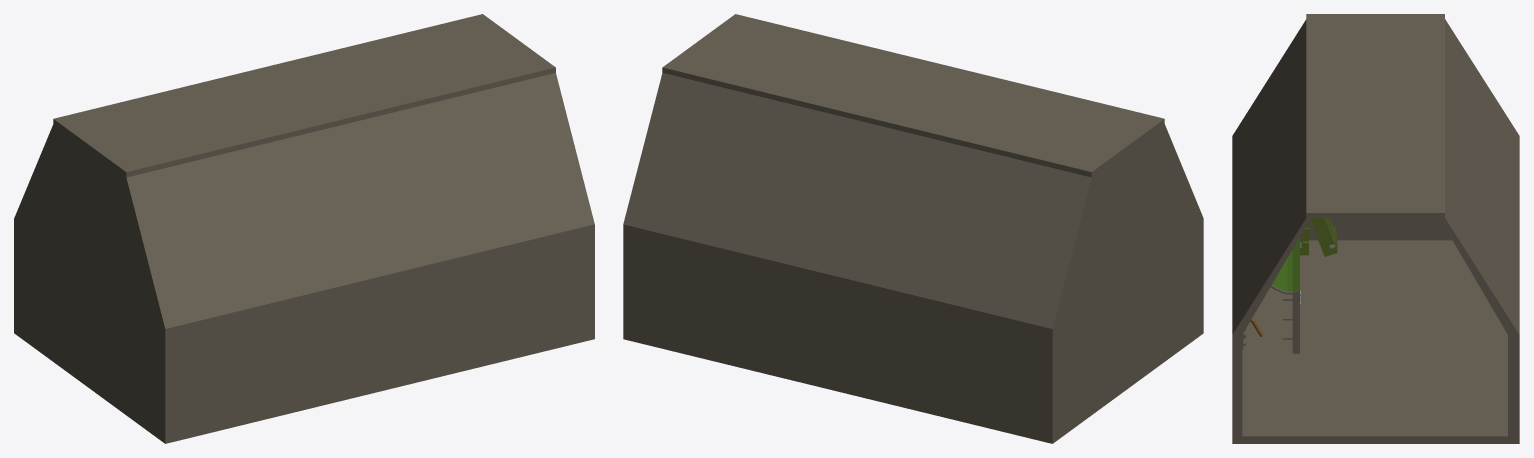
File: АНГАР.fbx
3 views of the same model, side by side, from view 1: azimuth 30°, elevation 25°; view 2: azimuth 150°, elevation 25°; view 3: azimuth 270°, elevation 25° (orthographic). The views are drawn at different scales.
Parts seen in each view (by area): view 1: Цилиндр.002; view 2: Цилиндр.002; view 3: Цилиндр.002, Cube.007.
Boxes of the visible parts, <box> form: Цилиндр.002: <box>14,14,594,443</box>; Цилиндр.002: <box>623,14,1203,443</box>; Цилиндр.002: <box>1232,14,1519,443</box>; Cube.007: <box>1310,218,1337,256</box>.
Bounding box in the file's own units: 1189 × 644 × 725.
